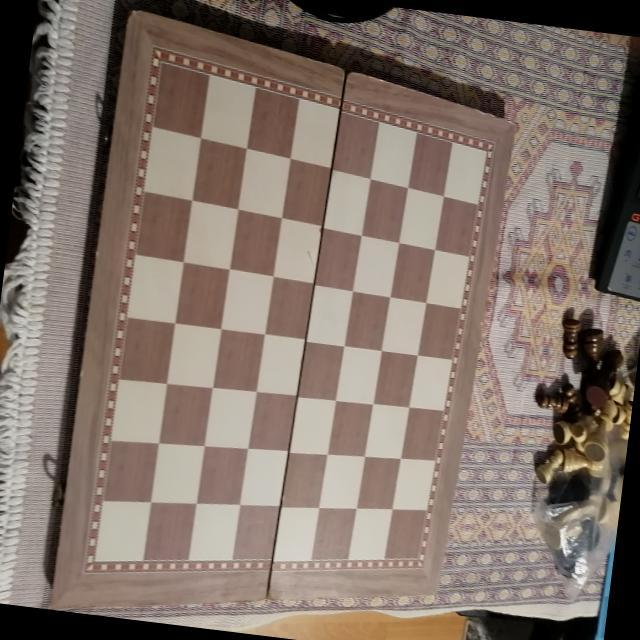corners: (502, 114, 526, 138), (126, 0, 148, 23), (422, 580, 442, 603), (44, 599, 64, 614)
